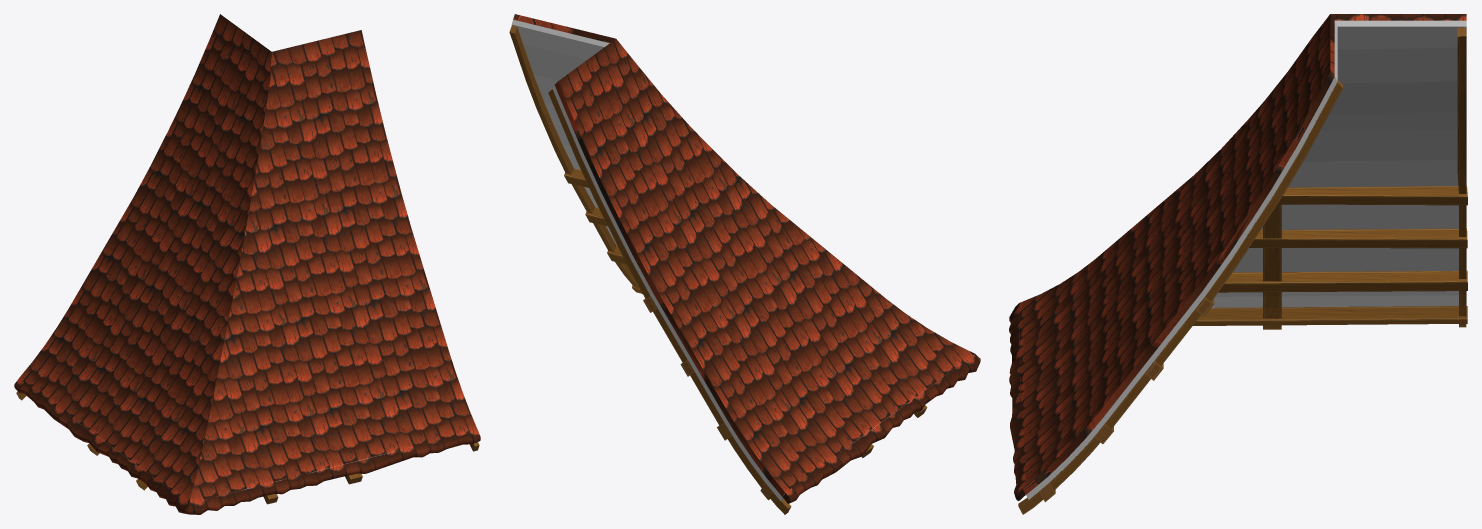
Rendered from SM_House_Roof_02_Corner_Outer.fbx.
3 views of the same model, side by side, from view 1: azimuth 30°, elevation 25°; view 2: azimuth 150°, elevation 25°; view 3: azimuth 270°, elevation 25° (orthographic). The views are drawn at different scales.
Visible parts, largest first — view 1: SM_House_Roof_02_Corner_Outer; view 2: SM_House_Roof_02_Corner_Outer; view 3: SM_House_Roof_02_Corner_Outer.
Boxes of the visible parts, x1,y1,x2,y2 form: SM_House_Roof_02_Corner_Outer: (14,14,480,514); SM_House_Roof_02_Corner_Outer: (509,14,980,514); SM_House_Roof_02_Corner_Outer: (1009,14,1467,514).
Bounding box in the file's own units: 8.98 × 9.67 × 9.04.
